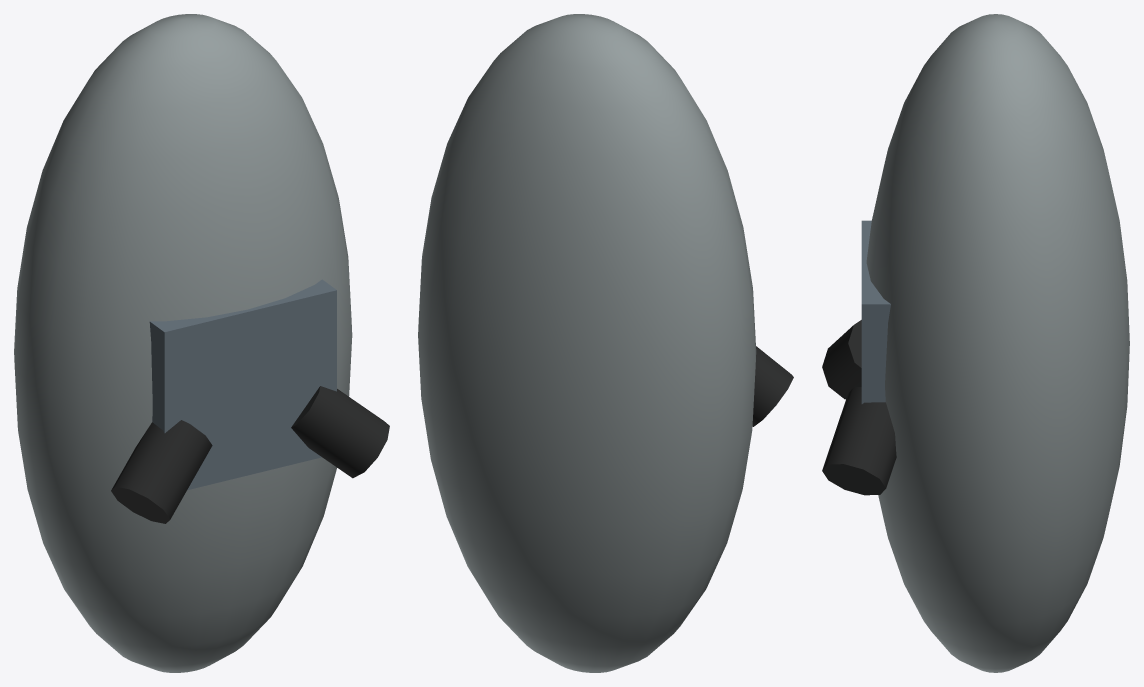
Rendered from s_ivb.aps_02.glb.
3 views of the same model, side by side, from view 1: azimuth 30°, elevation 25°; view 2: azimuth 150°, elevation 25°; view 3: azimuth 270°, elevation 25° (orthographic).
Visible parts, largest first — view 1: s_ivb.aps_02.mesh; view 2: s_ivb.aps_02.mesh; view 3: s_ivb.aps_02.mesh.
Boxes of the visible parts, <box> form: s_ivb.aps_02.mesh: <box>14,14,389,672</box>; s_ivb.aps_02.mesh: <box>418,14,793,672</box>; s_ivb.aps_02.mesh: <box>822,14,1129,672</box>.
Bounding box in the file's own units: 0.96 × 1.9 × 0.826.
